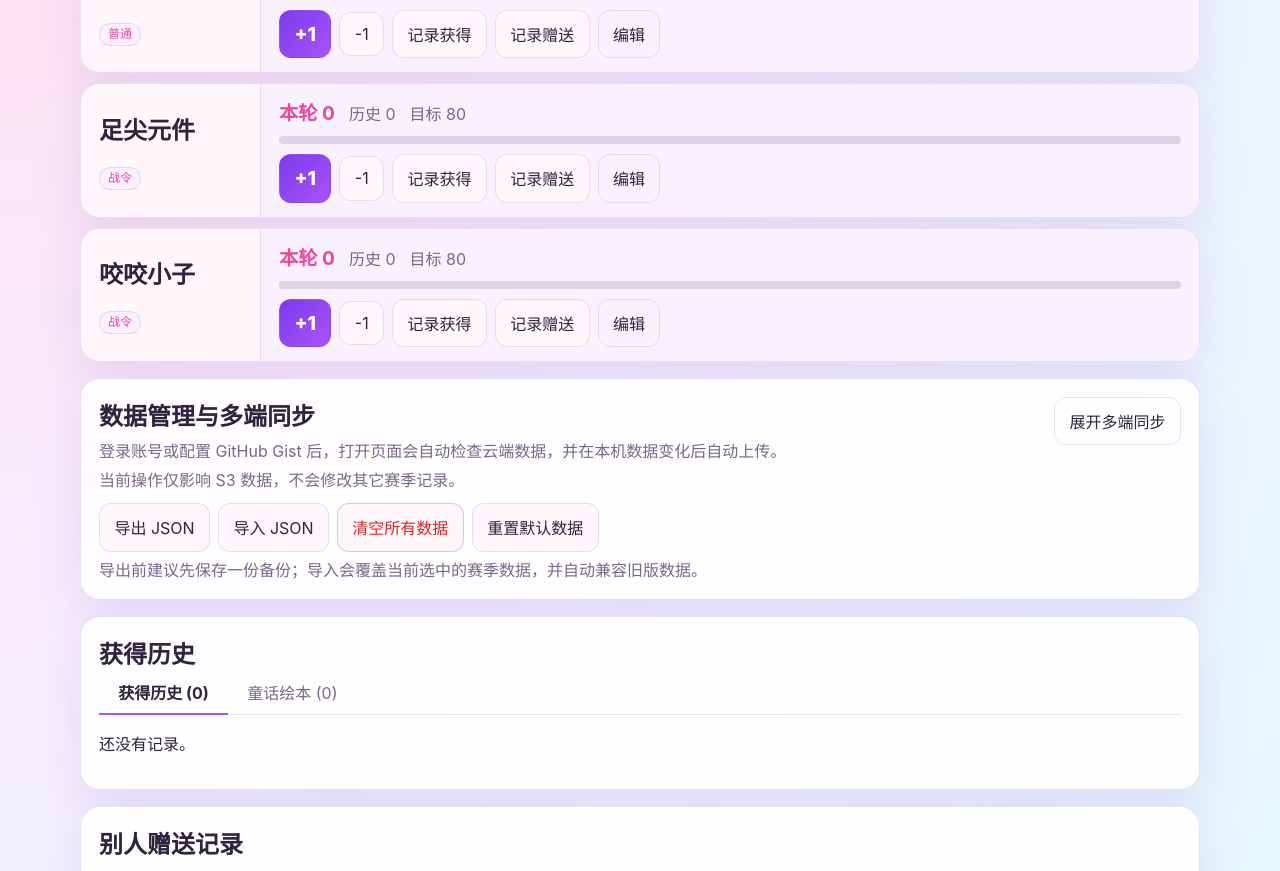
App › saves optional sync configuration without affecting local use
(page scrolled)
Step 1. Click the button "展开多端同步" → (1118, 421), box [1054,397,1181,445]
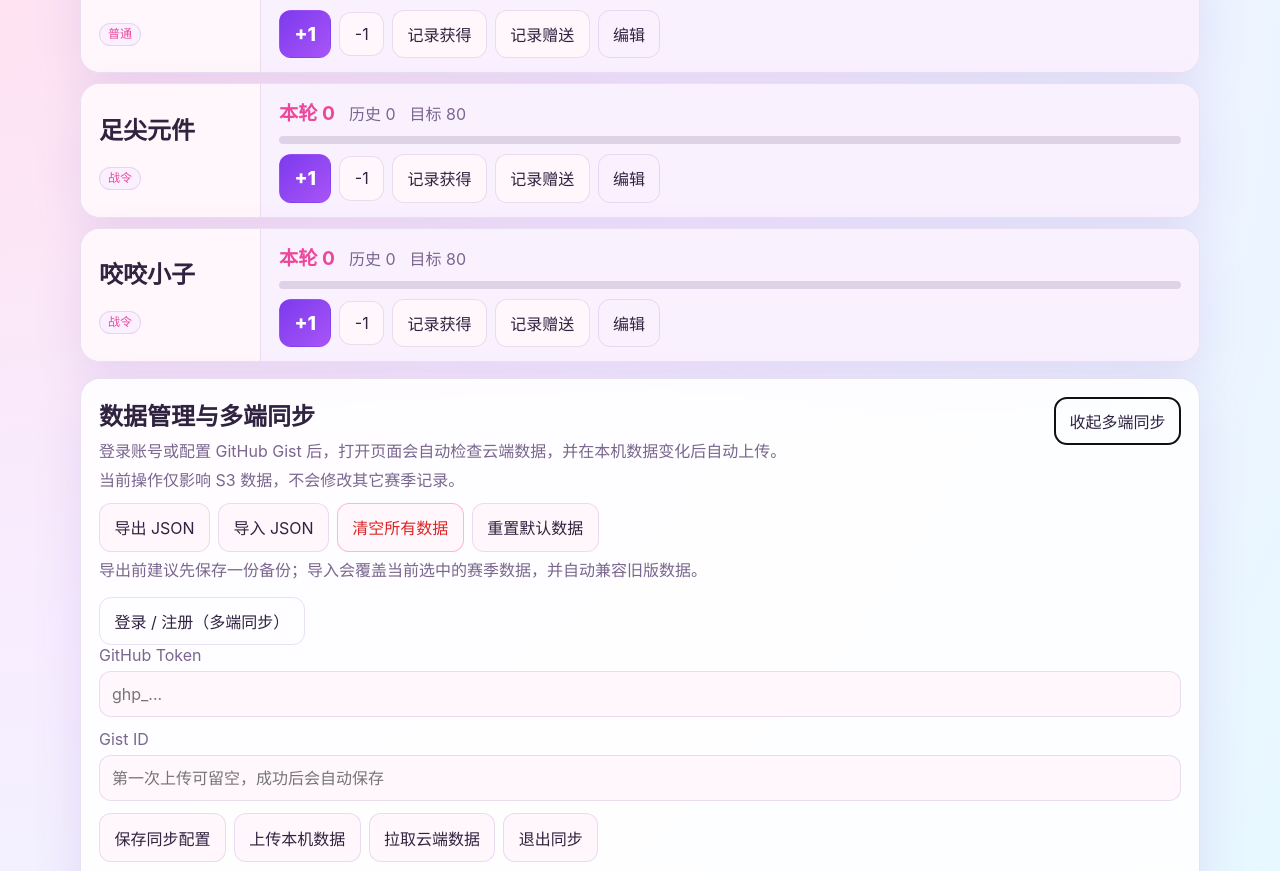
Step 2. Type "token-1" into the password field labelled "GitHub Token" → (640, 694), box [99,672,1181,718]
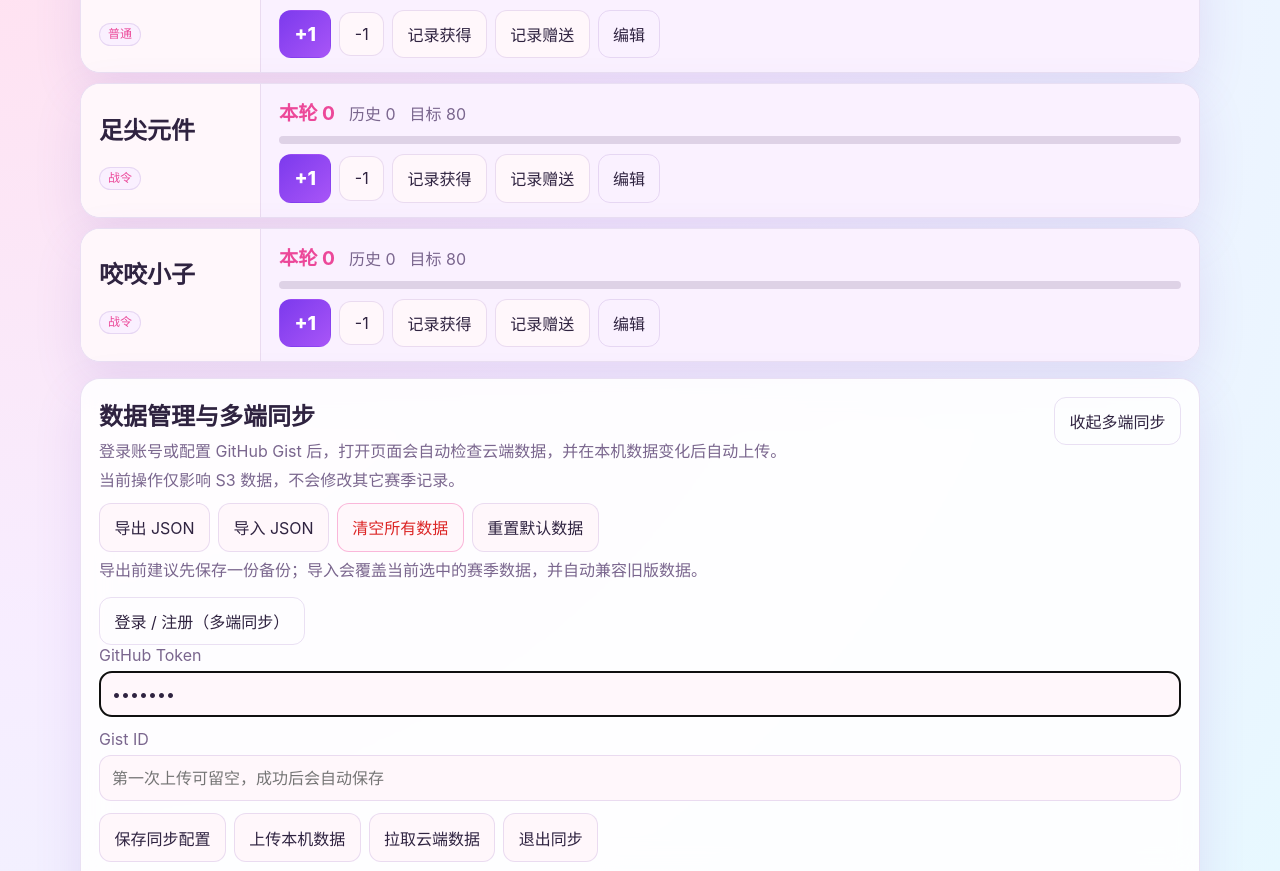
Step 3. Type "gist-1" into the field labelled "Gist ID" → (640, 778), box [99,756,1181,802]
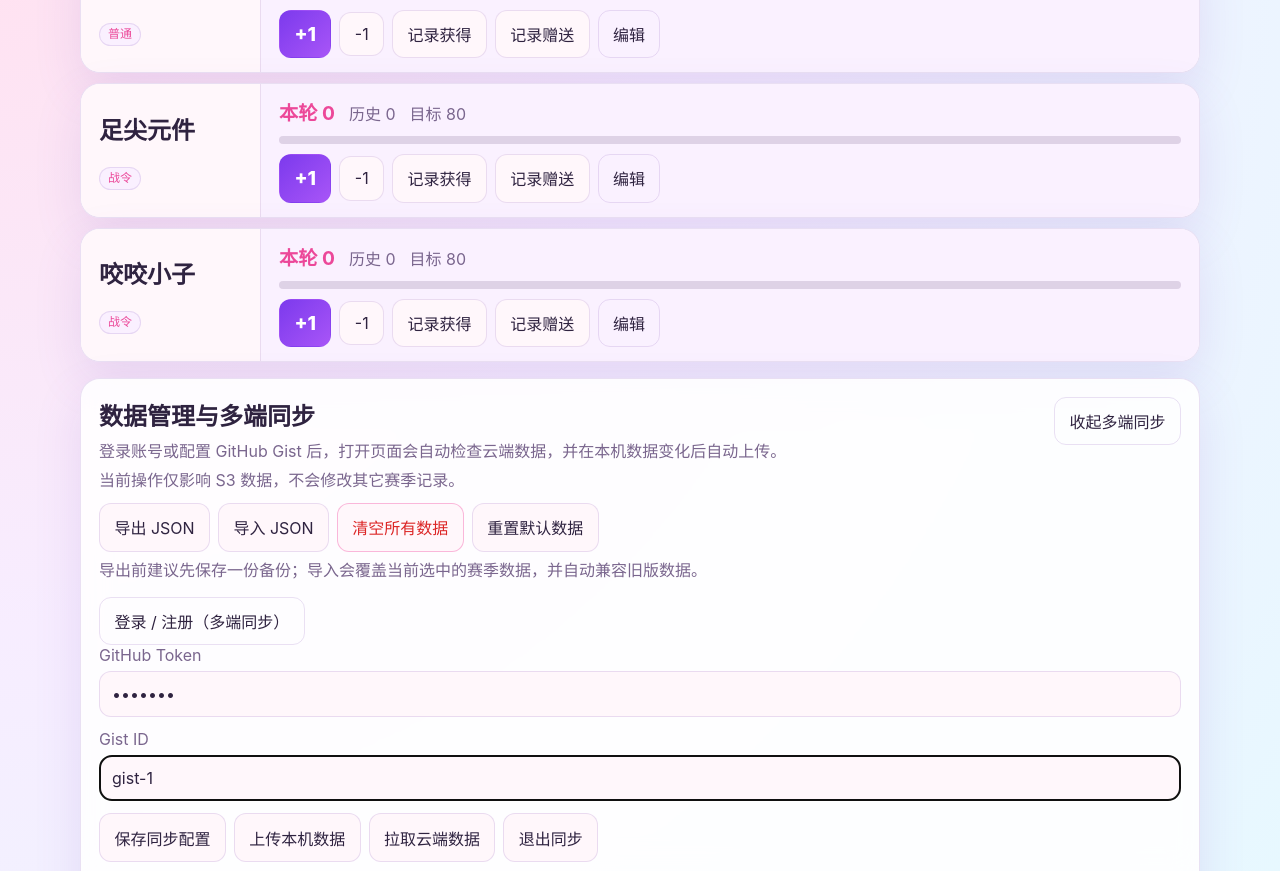
Step 4. Click the button "保存同步配置" → (162, 838), box [99,814,226,862]
(page scrolled)
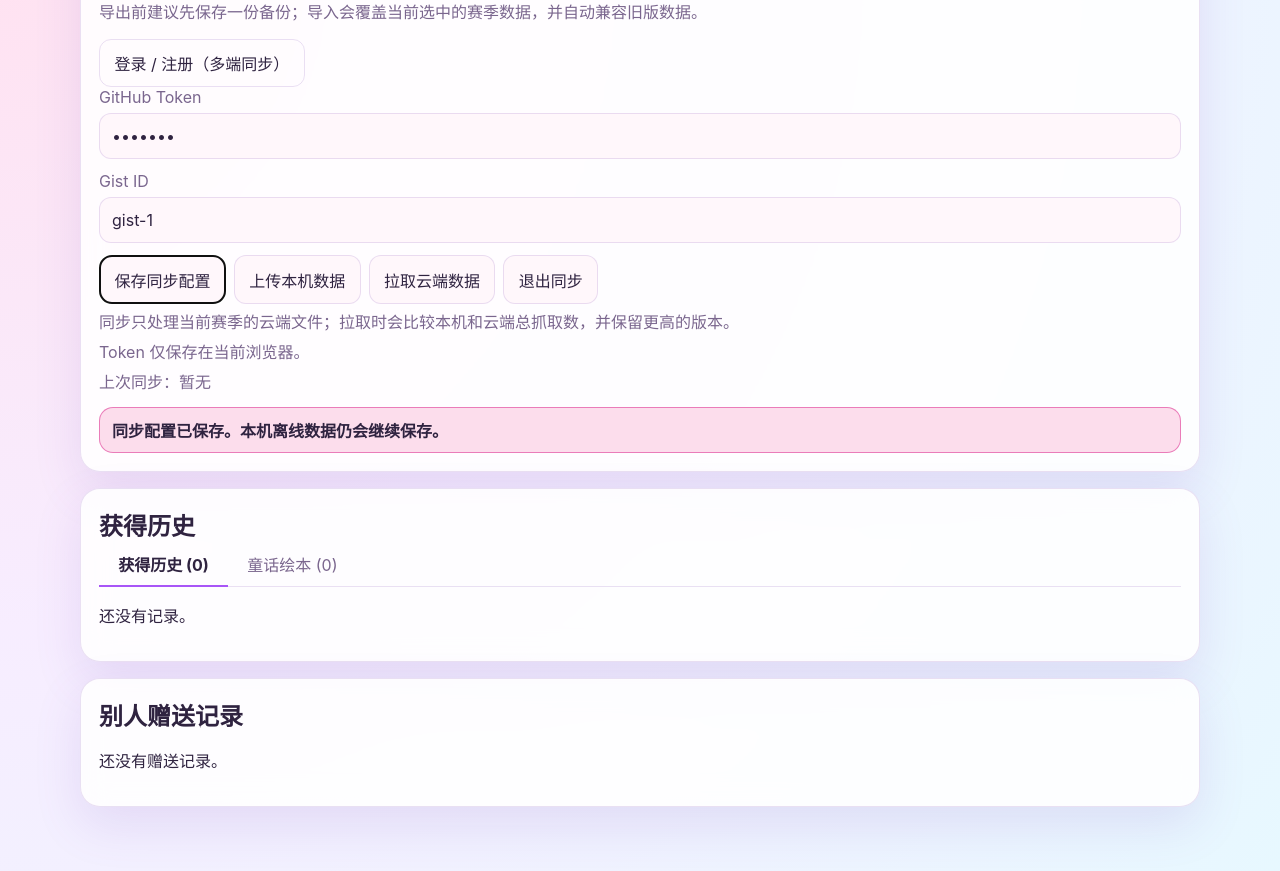
Now the text "同步配置已保存。本机离线数据仍会继续保存。" is shown, box [112,421,448,441]
